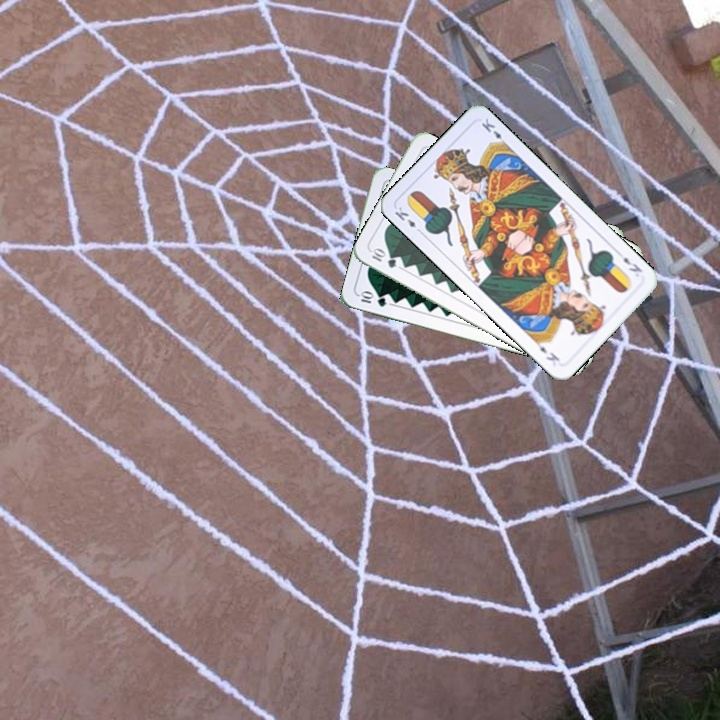EK: (390, 202, 425, 237), (619, 253, 645, 275)
G10: (366, 245, 399, 271), (355, 288, 389, 309)
